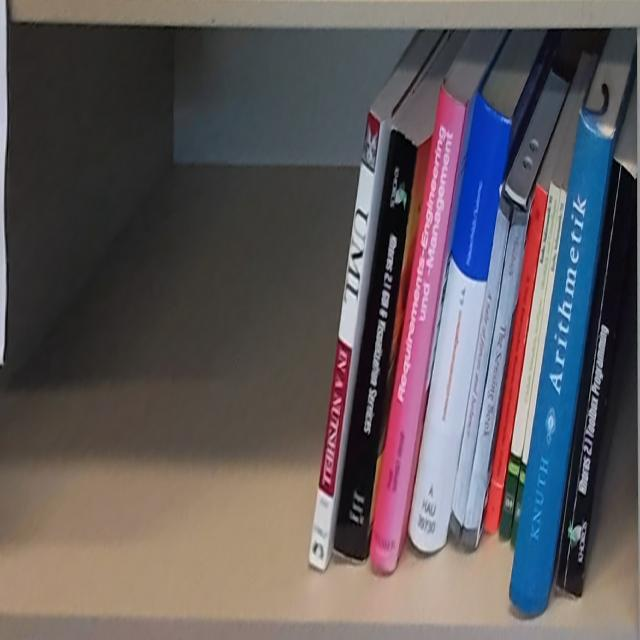Book Spine: (509, 113, 614, 618), (408, 89, 513, 556), (369, 82, 465, 576), (333, 127, 418, 564), (555, 156, 637, 602), (309, 105, 381, 570), (460, 213, 531, 556), (484, 179, 550, 534), (498, 181, 562, 540), (508, 186, 569, 548), (450, 193, 510, 546)
